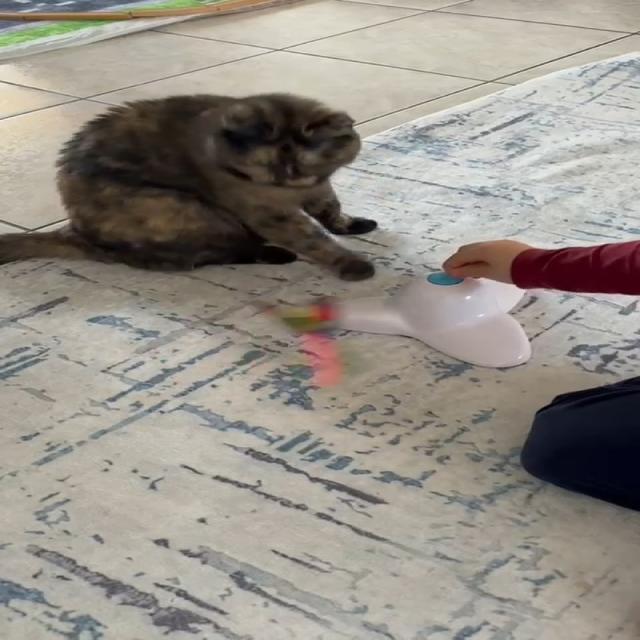authorized: (0, 90, 379, 282)
